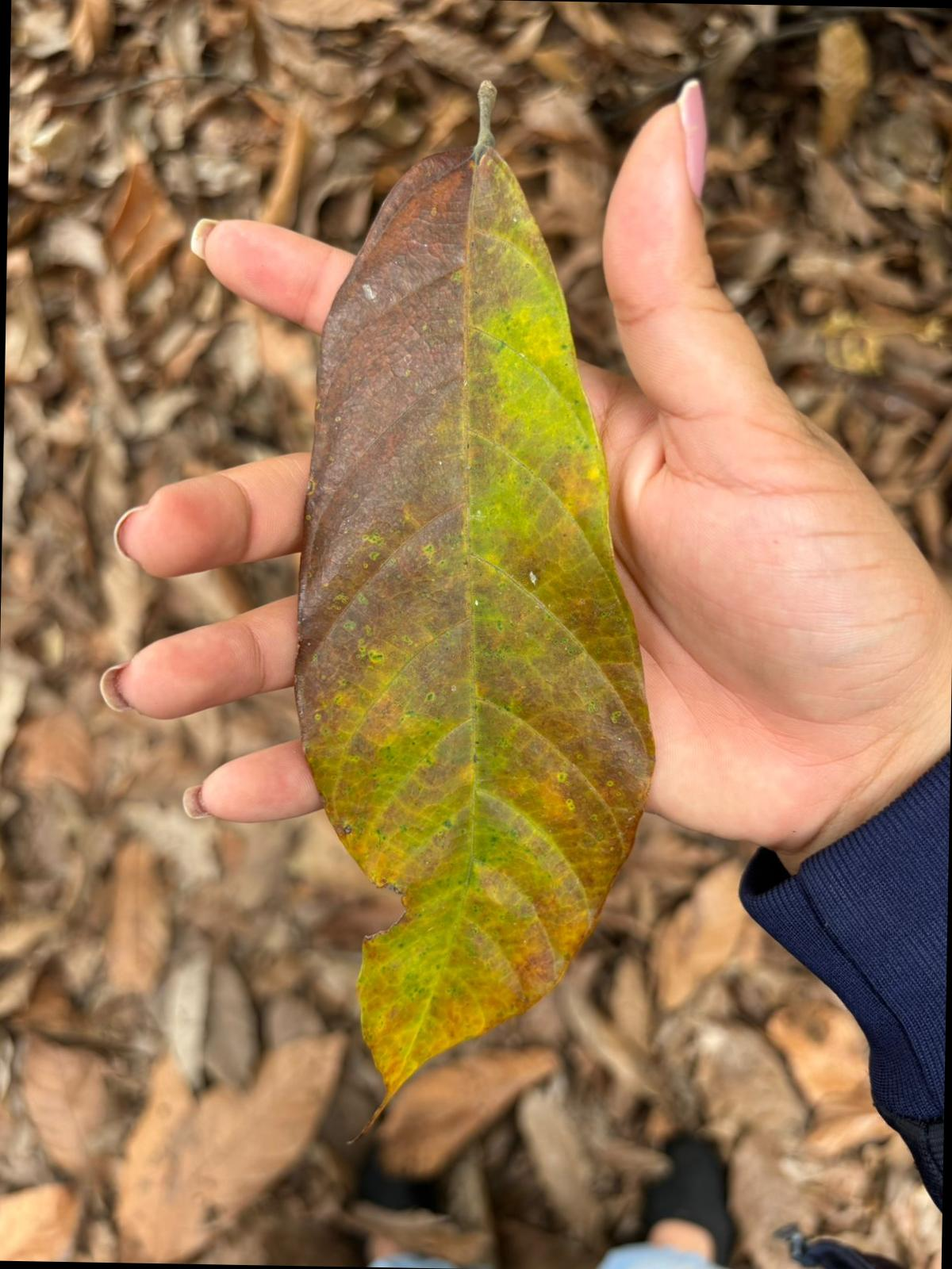Fosforo: (296, 84, 653, 1107)
